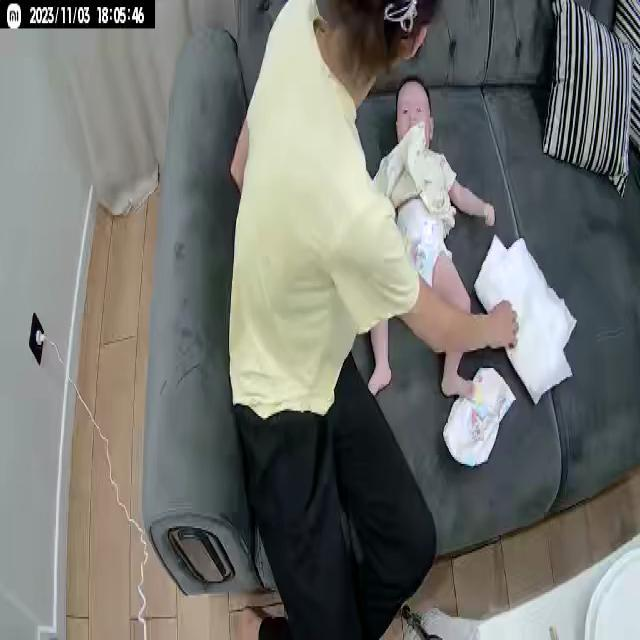baby: (353, 73, 496, 408)
